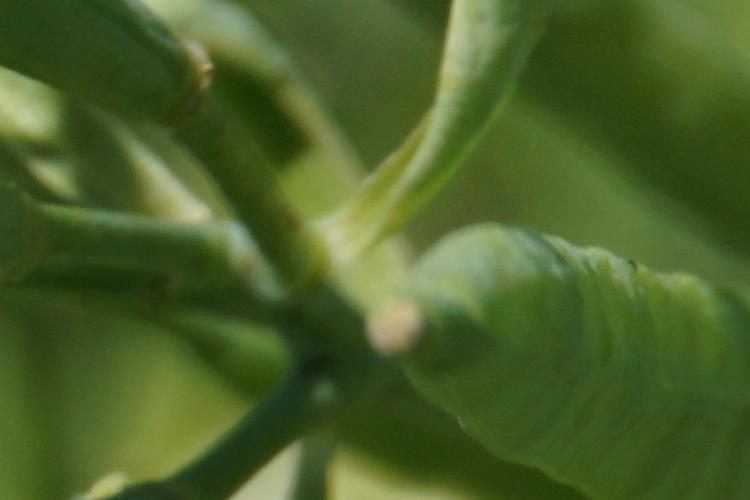pod: (379, 232, 735, 464)
